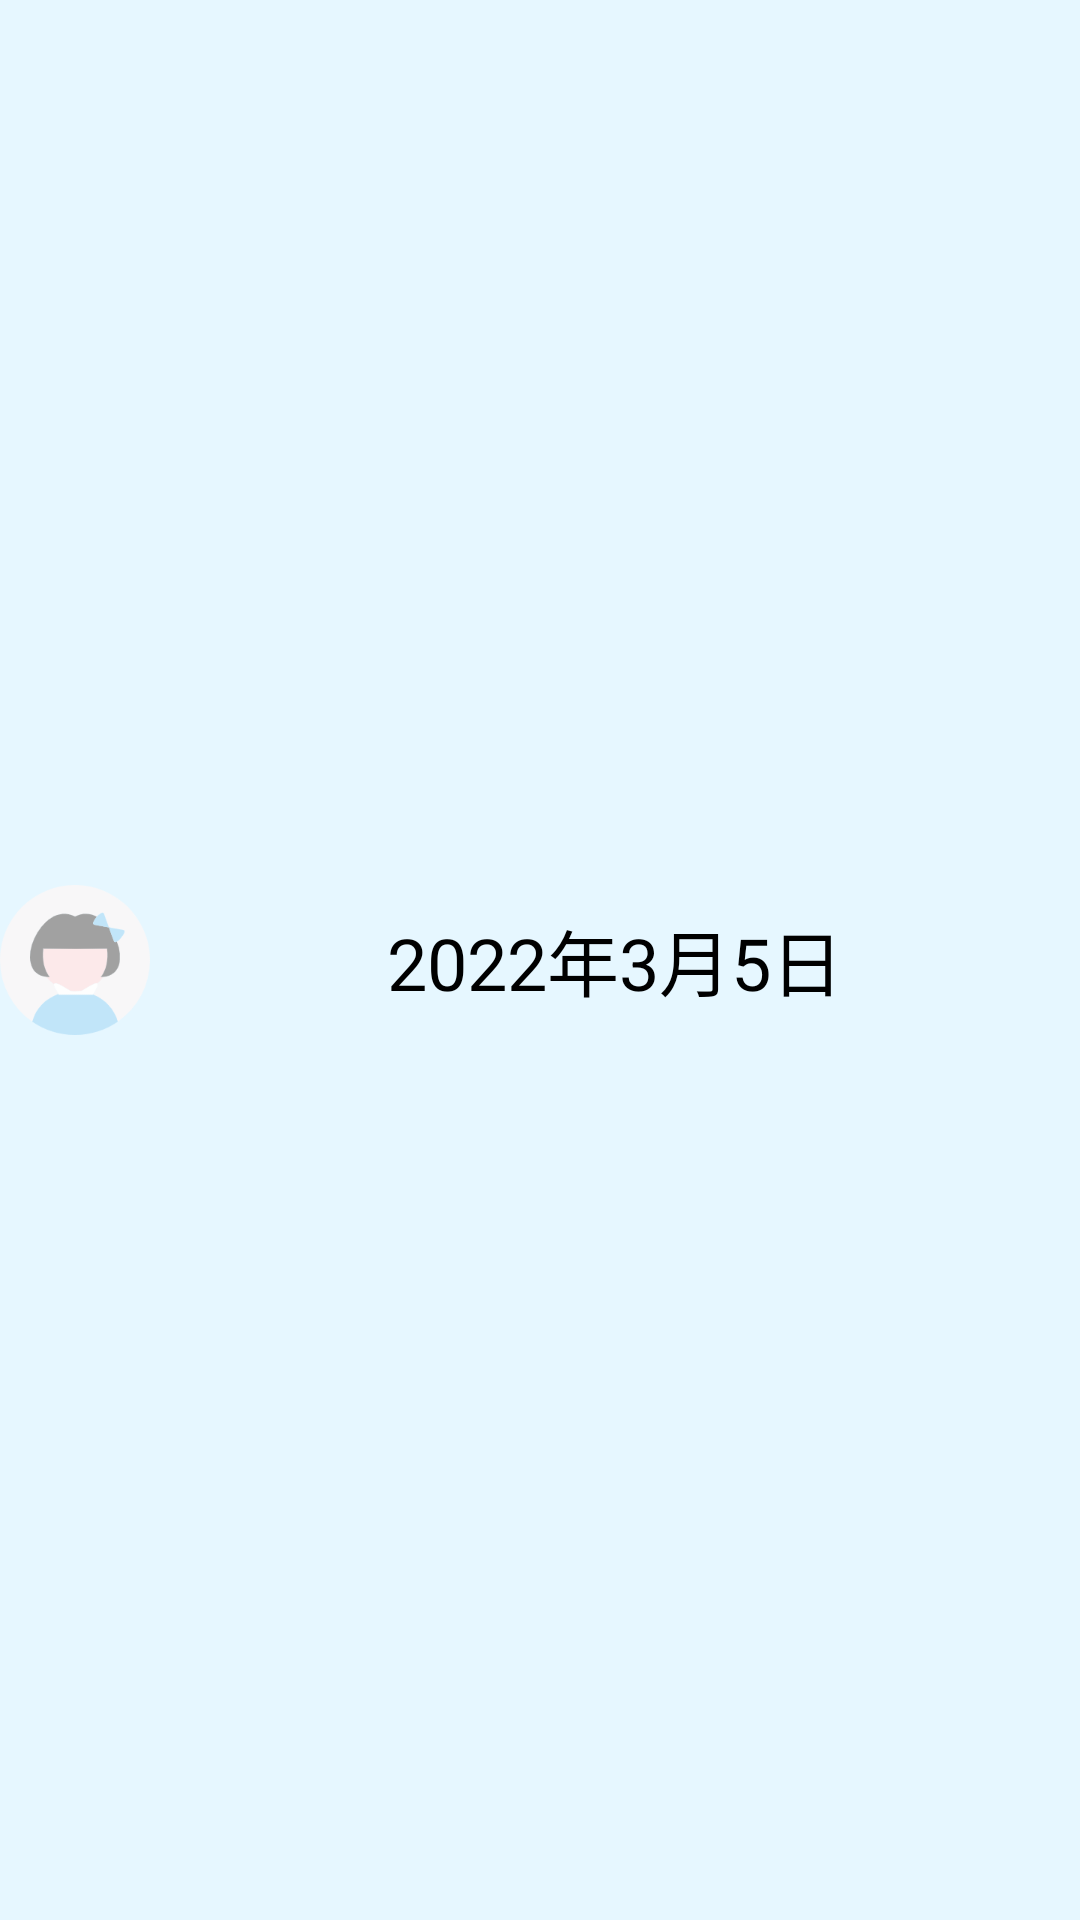

Icon bounding boxes for this 1080px×1920px phone screenshot, format (x1, y1, x2, y2):
littlegirl: (30, 913, 124, 1035)
